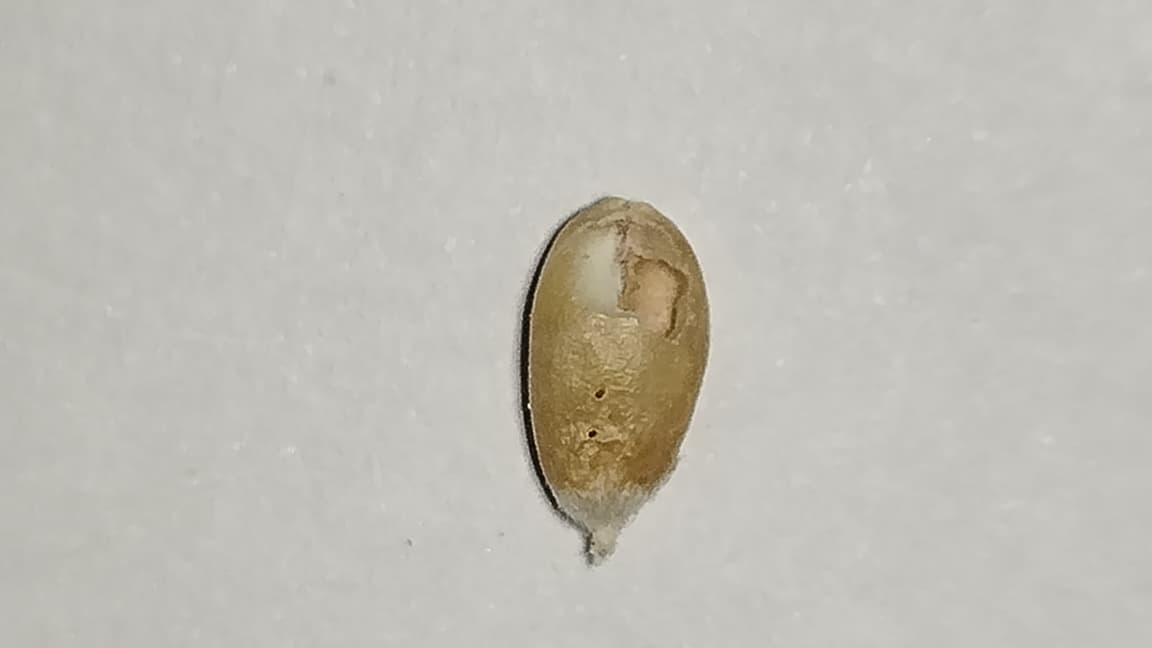damage: (525, 197, 709, 531)
insectdamage: (570, 217, 718, 363)
